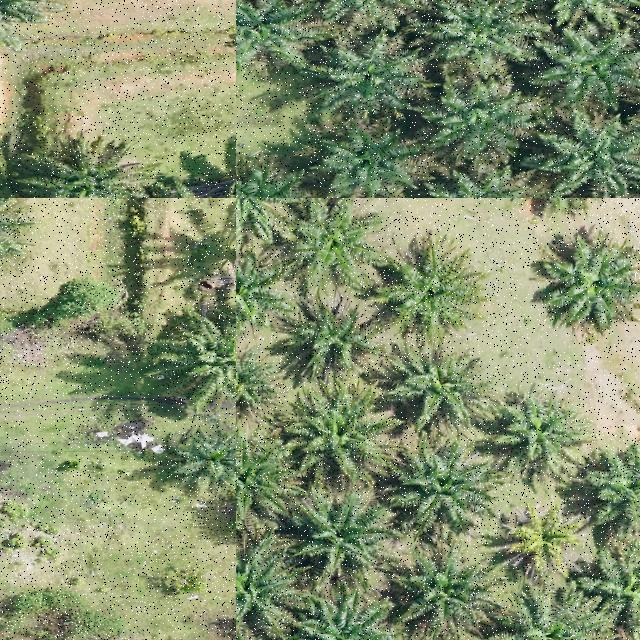Ganoderma: (508, 511, 576, 570)
